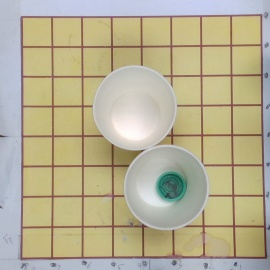cup: (91, 65, 177, 151)
cup_green: (124, 145, 212, 229)
